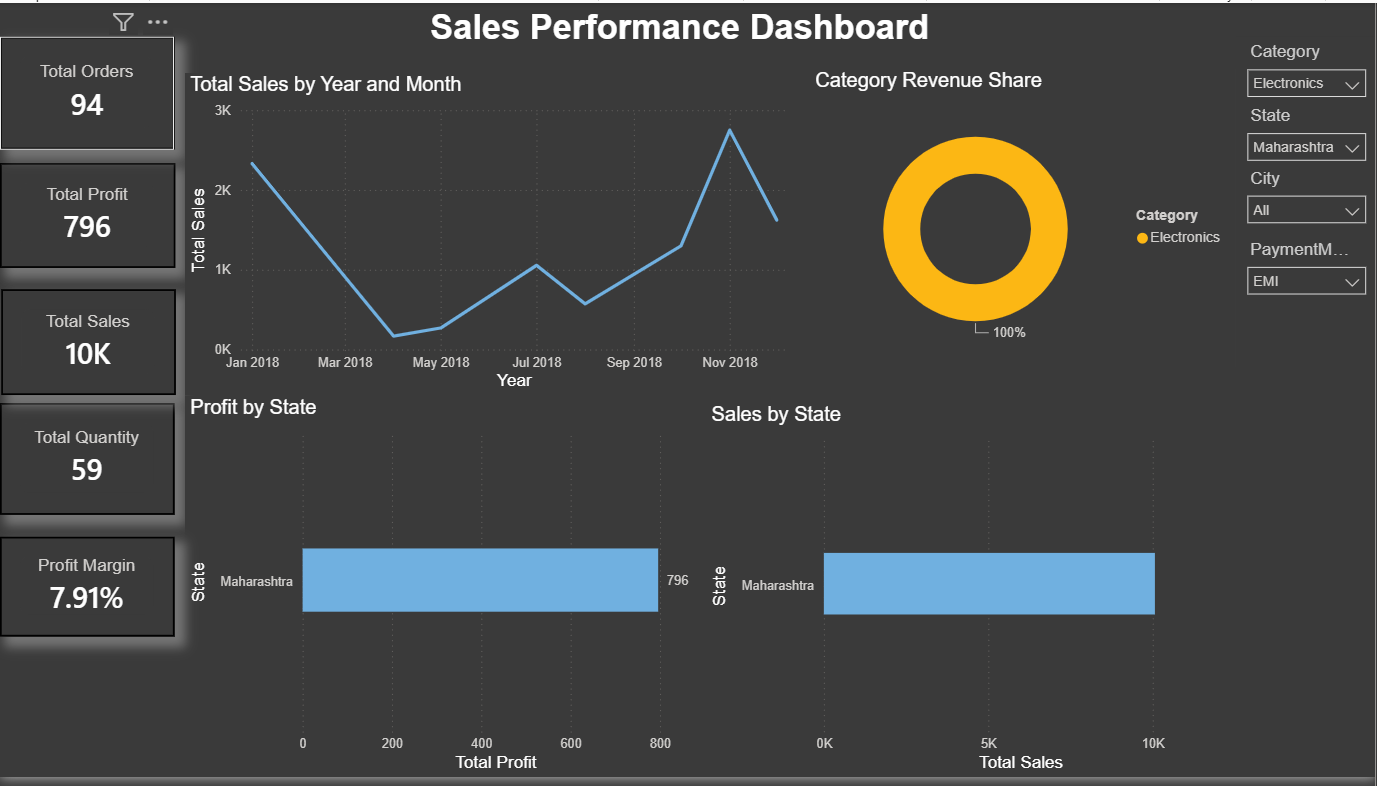

What the dashboard file says about the page in this screenshot:
{"tool":"powerbi","page":{"name":"Executive Dashboard","canvas":[1280,720],"ordinal":0},"visuals":[{"type":"cardVisual","fields":{"Data":["Orders.Total Profit"]},"box":[0,148.8,163.4,97.6],"z":0},{"type":"cardVisual","fields":{"Data":["Orders.Total Quantity"]},"box":[0,372,162.2,103.7],"z":1000},{"type":"cardVisual","fields":{"Data":["Orders.Total Orders"]},"box":[0,31.7,162.2,104.9],"z":2000},{"type":"cardVisual","fields":{"Data":["Orders.Total Sales"]},"box":[1.2,265.9,162.2,98.8],"z":3000},{"type":"lineChart","fields":{"Category":["Orders.Order Date.Variation.Date Hierarchy.Year","Orders.Order Date.Variation.Date Hierarchy.Month"],"Y":["Orders.Total Sales"]},"box":[172,64.6,581.7,300],"z":4000},{"type":"clusteredBarChart","title":"Sales by State","fields":{"Category":["Orders.State"],"Y":["Orders.Total Sales"]},"box":[657.3,372,492.7,347.6],"z":5000},{"type":"clusteredBarChart","title":"Profit by State","fields":{"Category":["Orders.State"],"Y":["Orders.Total Profit"]},"box":[172,364.6,485.4,354.9],"z":6000},{"type":"donutChart","title":"Category Revenue Share","fields":{"Category":["Details.Category"],"Y":["Orders.Total Sales"]},"box":[753.7,62.2,396.3,276.8],"z":7000},{"type":"slicer","fields":{"Values":["Orders.State"]},"box":[1150,90.2,130.5,58.5],"z":8000},{"type":"slicer","fields":{"Values":["Orders.City"]},"box":[1150,148.8,130.5,62.2],"z":9000},{"type":"slicer","fields":{"Values":["Details.Category"]},"box":[1150,31.7,130.5,62.2],"z":10000},{"type":"slicer","fields":{"Values":["Details.PaymentMode"]},"box":[1150,214.6,130.5,62.2],"z":11000},{"type":"textbox","box":[395.1,0,531.7,63.4],"z":12000},{"type":"cardVisual","fields":{"Data":["Orders.Profit Margin"]},"box":[0,496.3,162.2,92.7],"z":13000}]}

Visuals, with their boxes in screenshot pixels (x1, y1, x2, y2), scaled from the page's 1280x720 canvas onto the 1377x786 screenshot:
cardVisual - Orders.Total Profit: Rect(0, 162, 176, 269)
cardVisual - Orders.Total Quantity: Rect(0, 406, 174, 519)
cardVisual - Orders.Total Orders: Rect(0, 35, 174, 149)
cardVisual - Orders.Total Sales: Rect(1, 290, 176, 398)
lineChart - Orders.Order Date.Variation.Date Hierarchy.Year x Orders.Order Date.Variation.Date Hierarchy.Month: Rect(185, 71, 811, 398)
"Sales by State" clusteredBarChart: Rect(707, 406, 1237, 785)
"Profit by State" clusteredBarChart: Rect(185, 398, 707, 785)
"Category Revenue Share" donutChart: Rect(811, 68, 1237, 370)
slicer - Orders.State: Rect(1237, 98, 1376, 162)
slicer - Orders.City: Rect(1237, 162, 1376, 230)
slicer - Details.Category: Rect(1237, 35, 1376, 103)
slicer - Details.PaymentMode: Rect(1237, 234, 1376, 302)
textbox: Rect(425, 0, 997, 69)
cardVisual - Orders.Profit Margin: Rect(0, 542, 174, 643)
